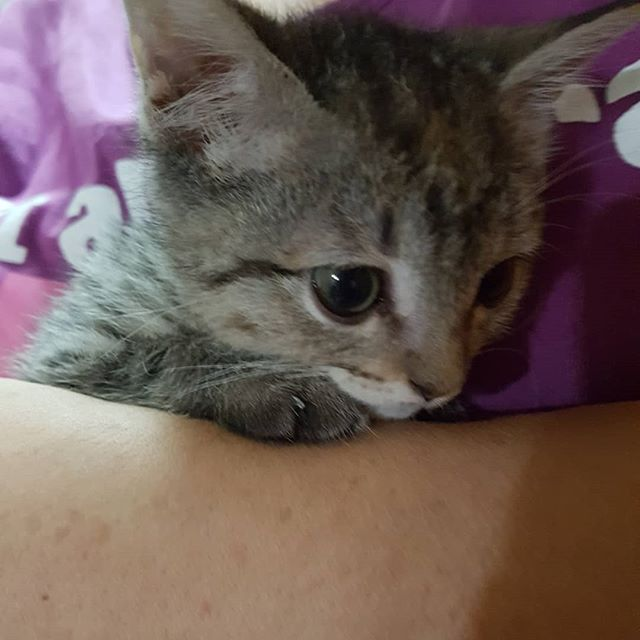cat: (141, 1, 640, 402)
